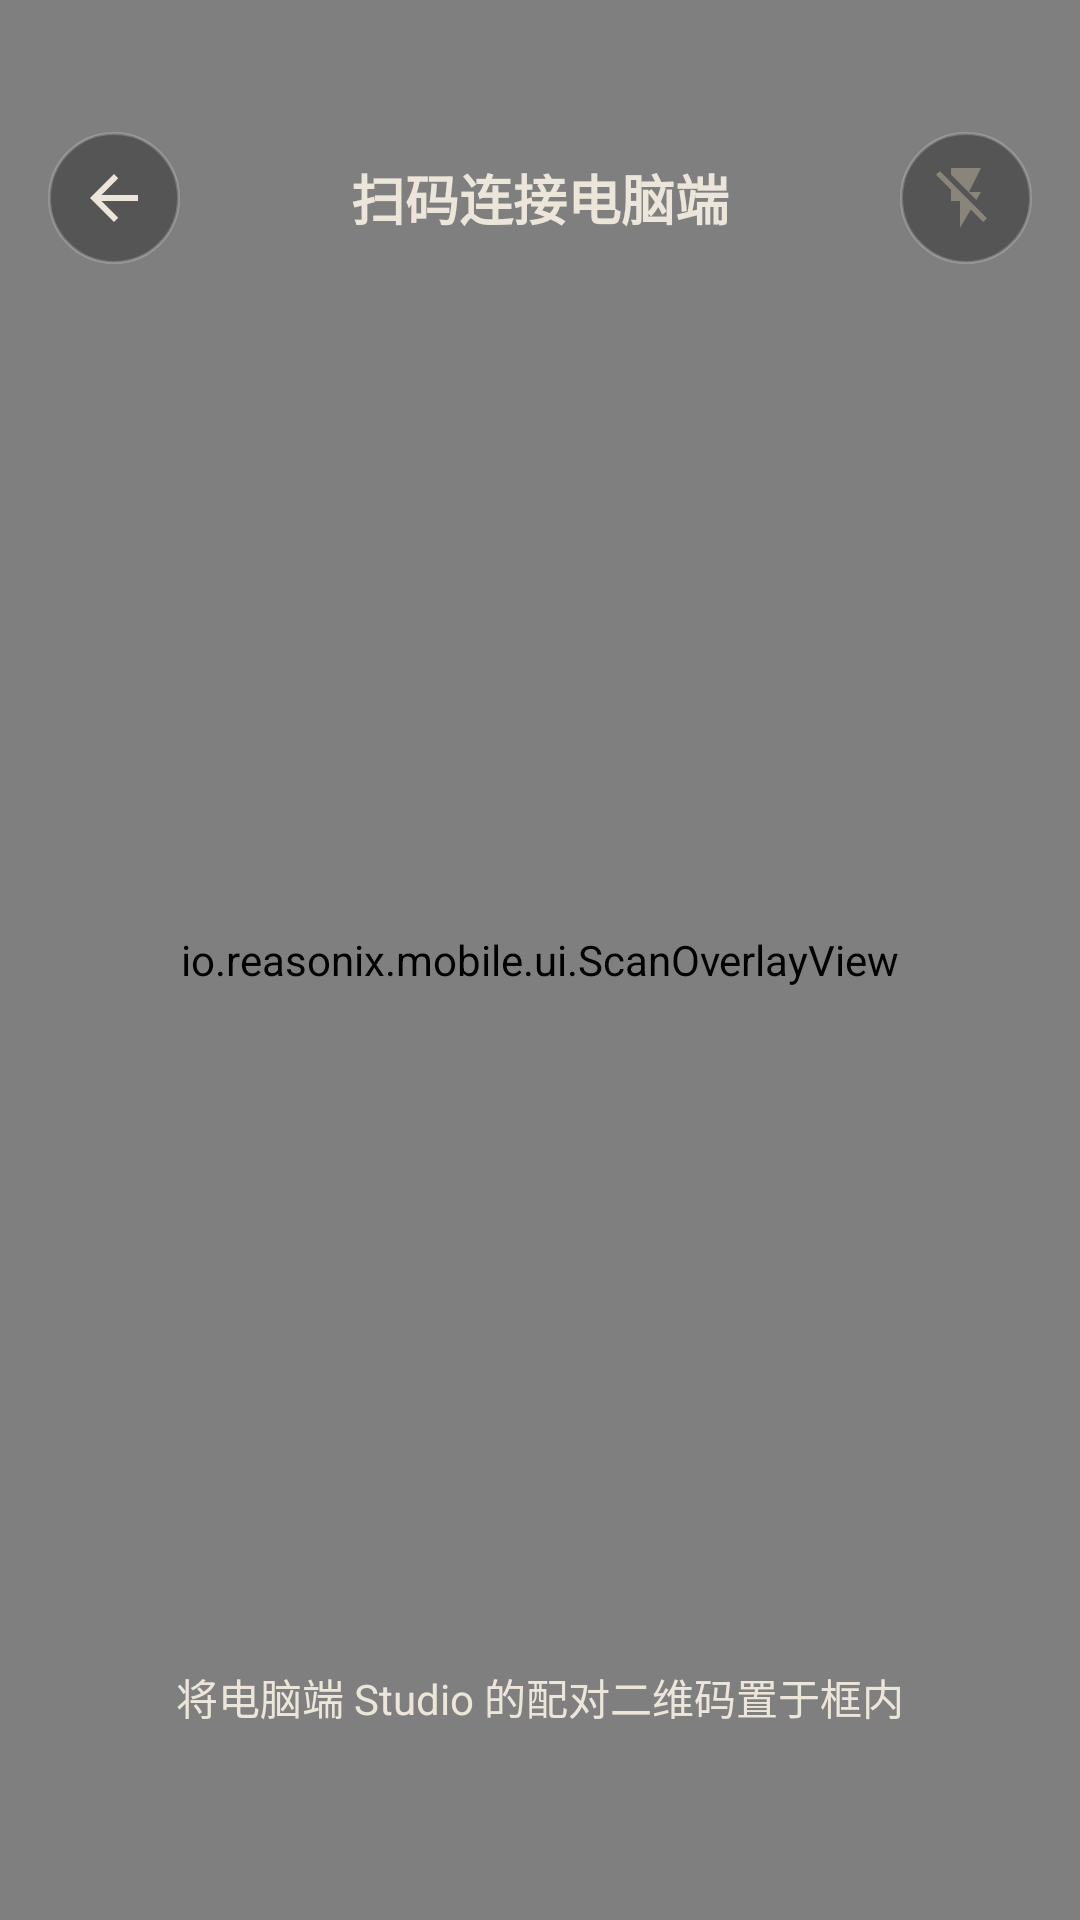

Named icons in this screenshot (1080px×1920px) and their centers, point (x, y):
取消: point (114, 198)
